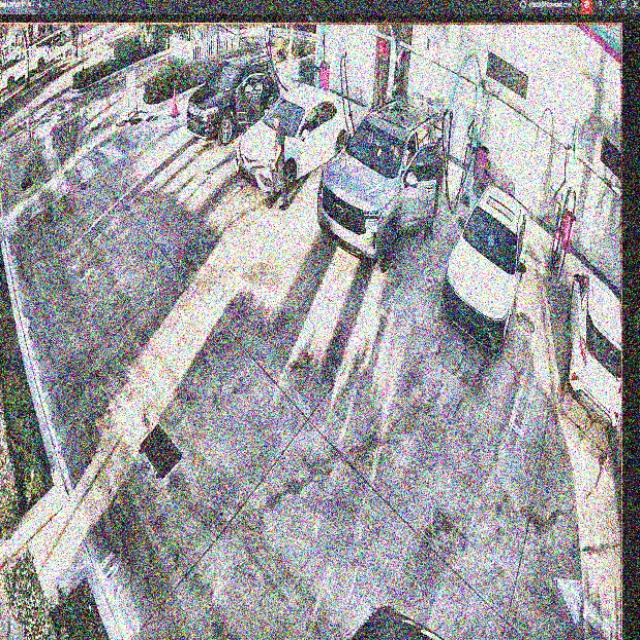Car: (317, 95, 441, 276), (443, 187, 531, 348), (235, 91, 353, 187)
